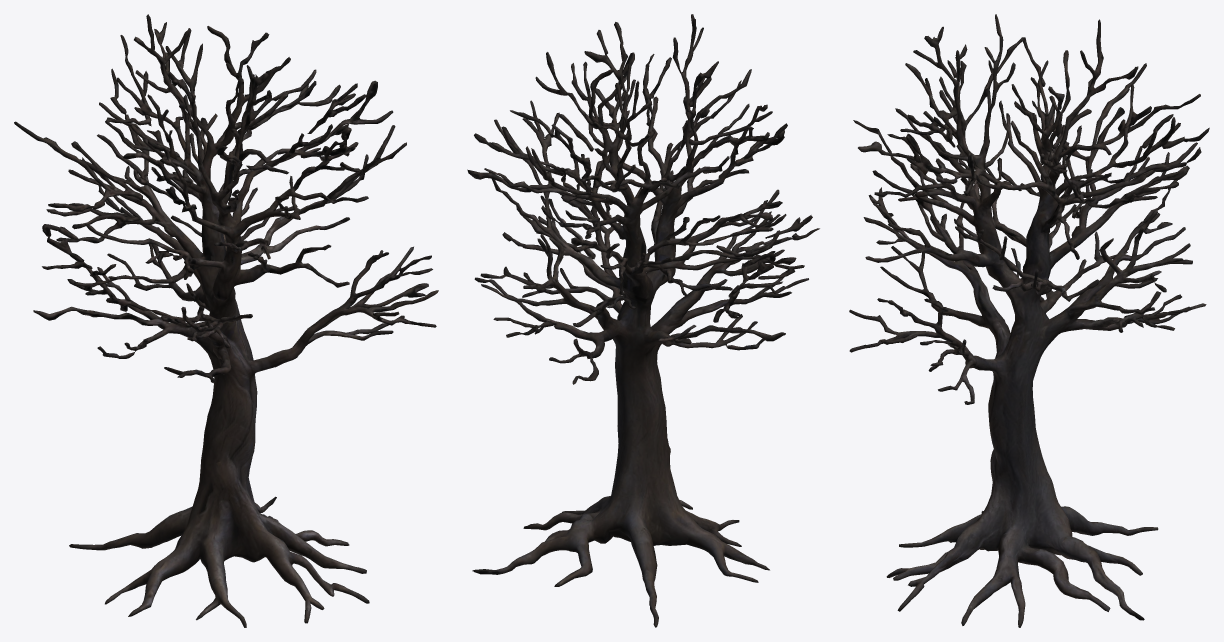
File: A_tree_with_dark_bark_0423155822_refine.fbx
The picture shows the model from 3 angles, left to right: view 1: azimuth 30°, elevation 25°; view 2: azimuth 150°, elevation 25°; view 3: azimuth 270°, elevation 25°; orthographic projection. The views are drawn at different scales.
Visible parts, largest first — view 1: Mesh_0; view 2: Mesh_0; view 3: Mesh_0.
Part boxes in pixels (x1,y1,x2,y2): Mesh_0: (14,14,438,627); Mesh_0: (467,14,819,627); Mesh_0: (849,14,1209,627).
Bounding box in the file's own units: 126 × 196 × 119.
Materials: 1 (1 with a texture image).
